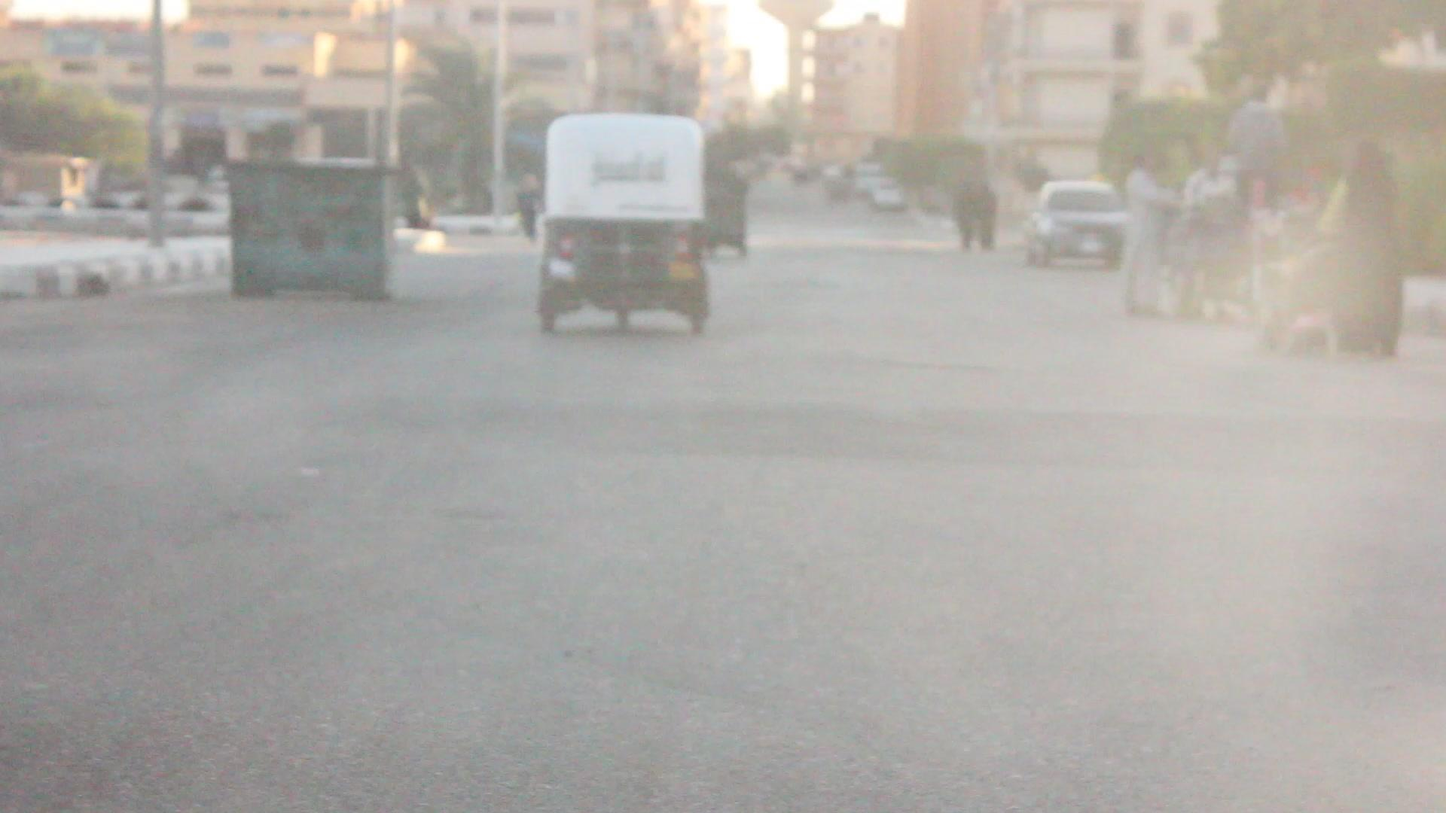Bump: (2, 386, 1445, 514)
